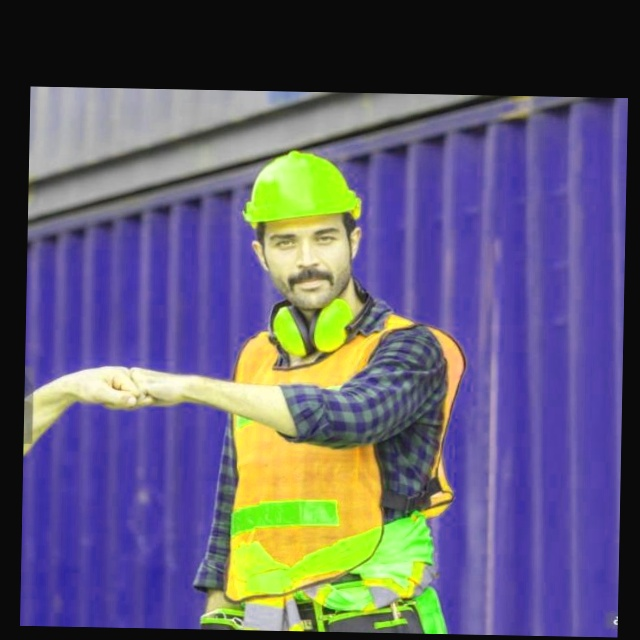Con_Casco: (239, 147, 365, 310)
Con_Chaleco: (225, 308, 466, 609)
